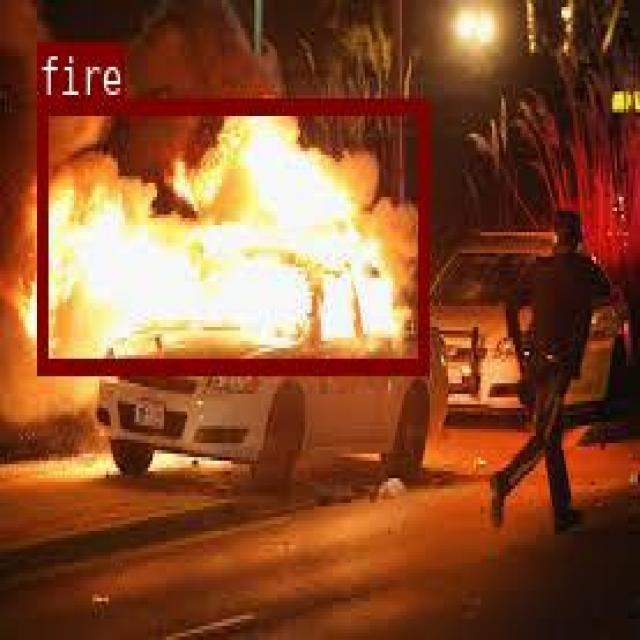fire: (36, 98, 425, 372)
